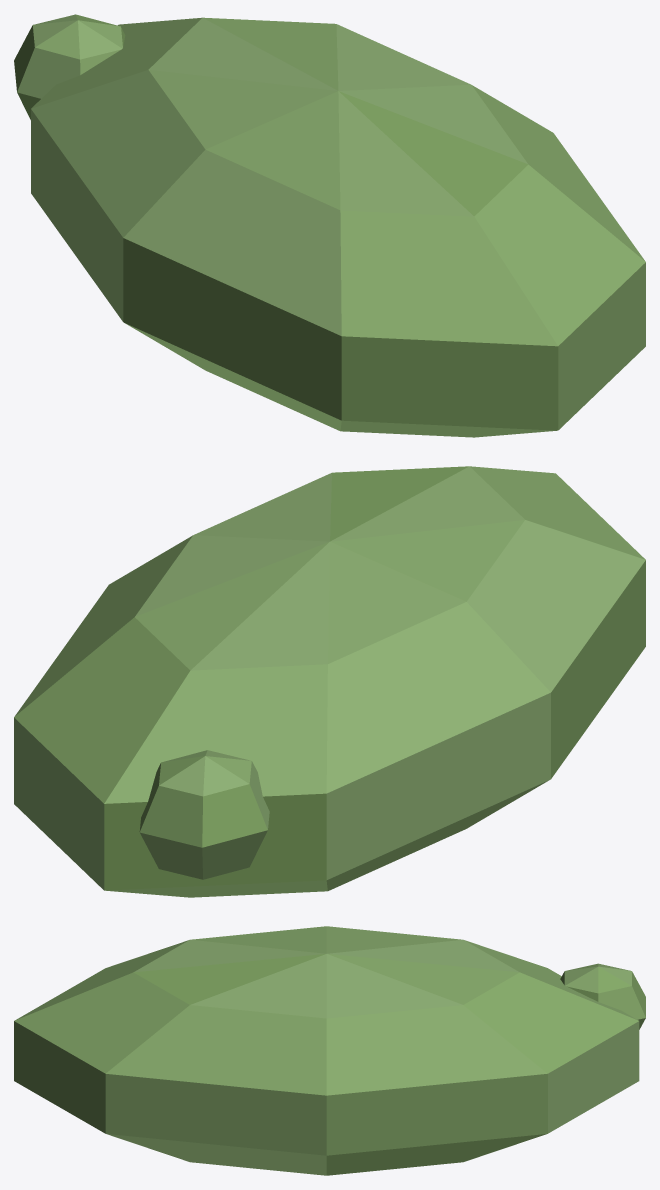
File: foot_l.glb
3 views of the same model, one above another, from view 1: azimuth 30°, elevation 25°; view 2: azimuth 150°, elevation 25°; view 3: azimuth 270°, elevation 25° (orthographic). The views are drawn at different scales.
Visible parts, largest first — view 1: foot_l2; view 2: foot_l2; view 3: foot_l2.
Part boxes in pixels (x1,y1,x2,y2): foot_l2: [14, 14, 645, 437]; foot_l2: [14, 466, 645, 897]; foot_l2: [14, 926, 645, 1175].
Size of the model in its own units: 0.2473 by 0.15 by 0.4421.
